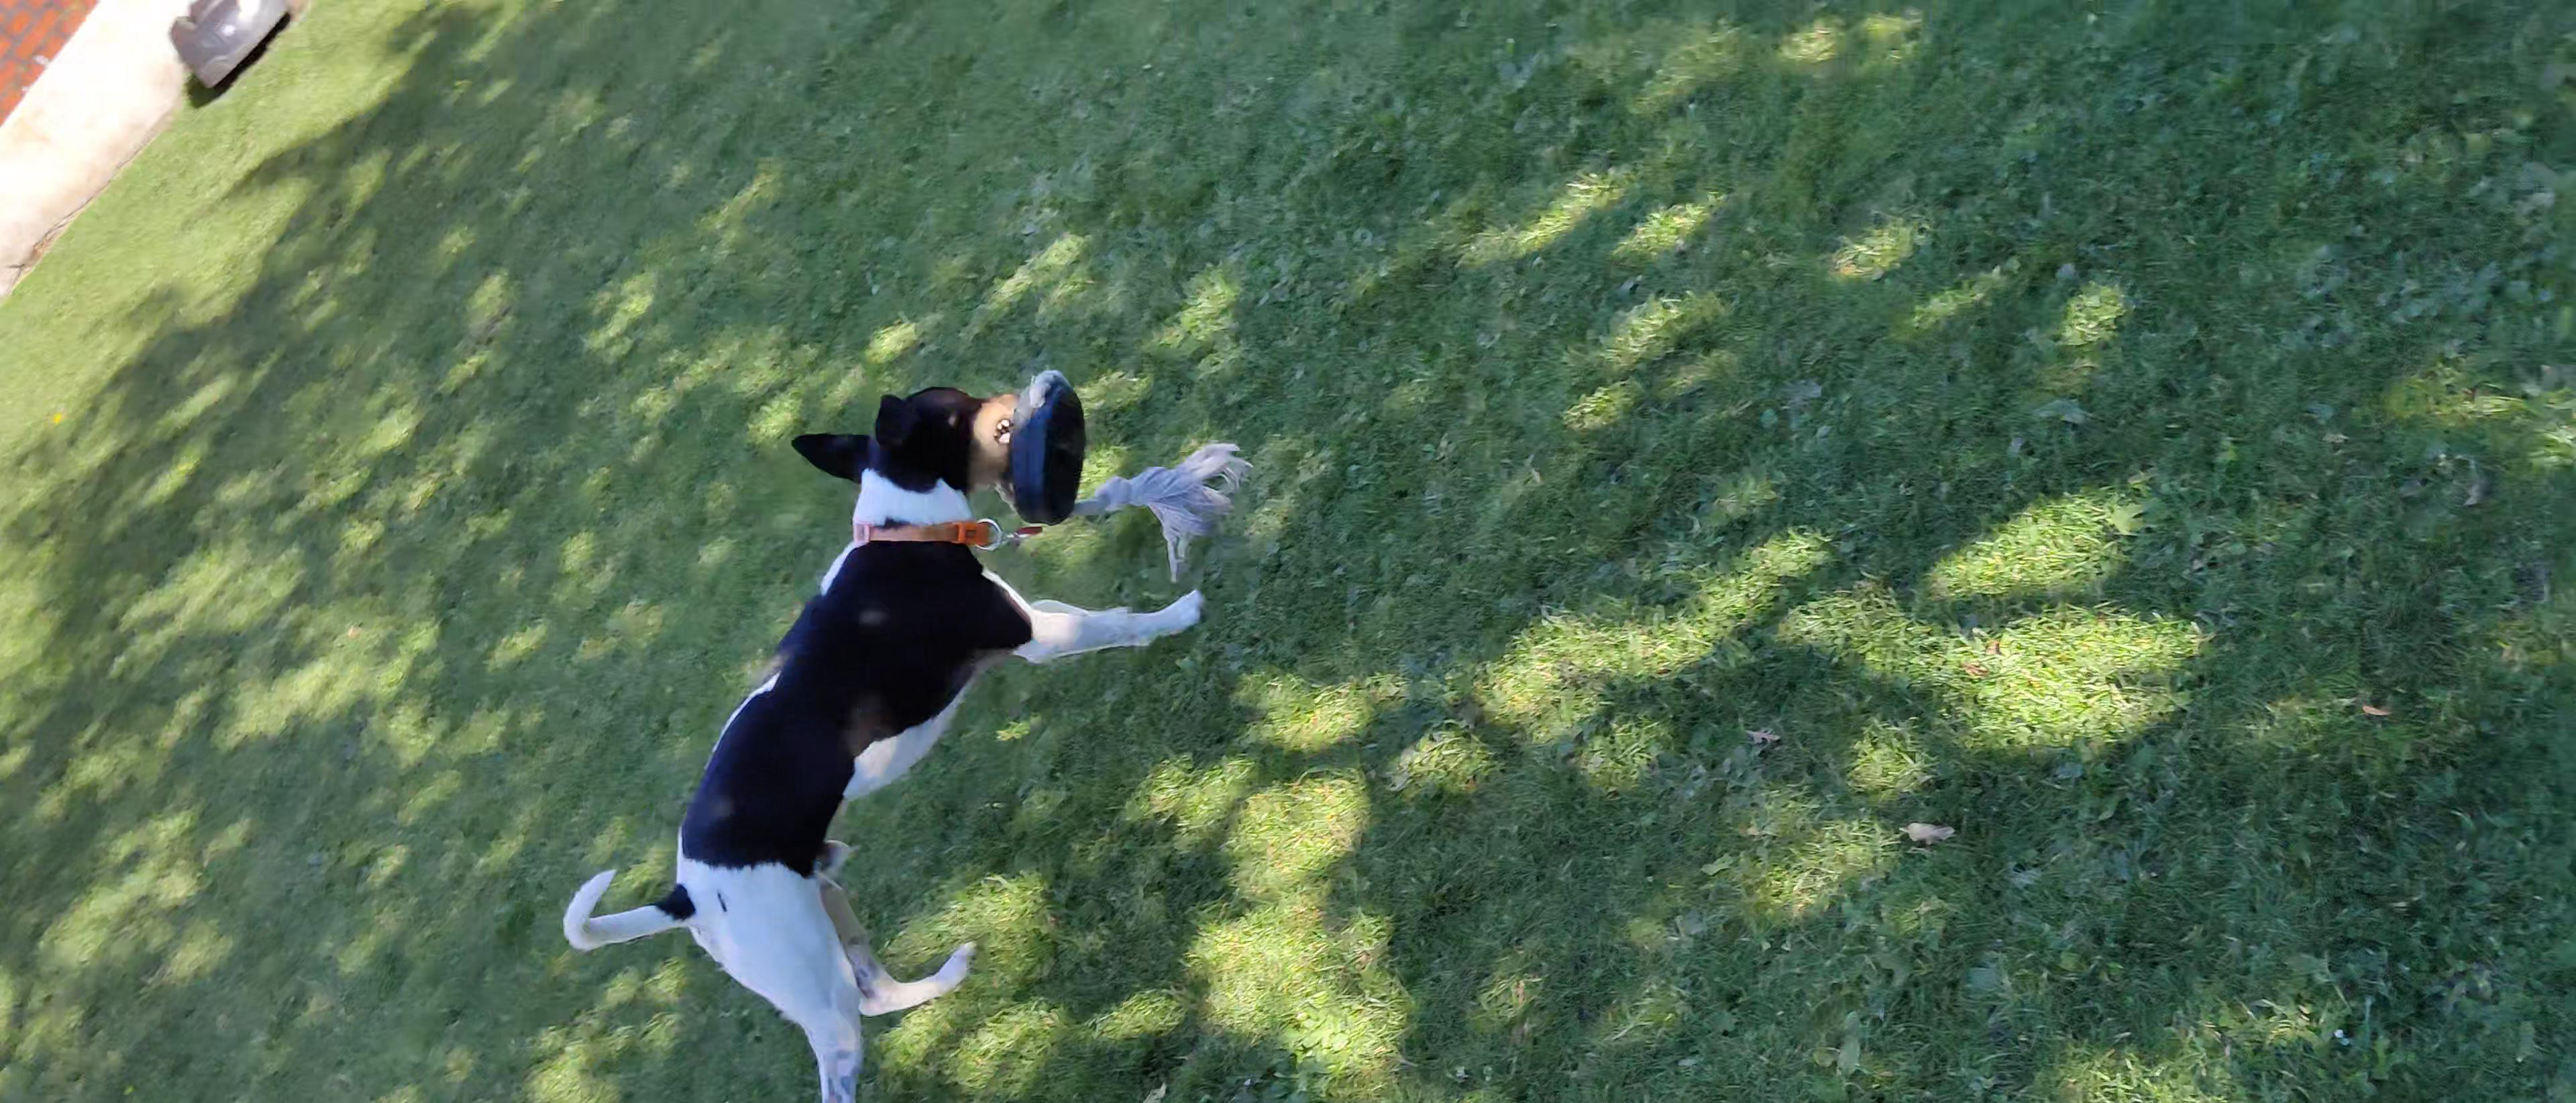Dog: (559, 380, 1209, 1103)
